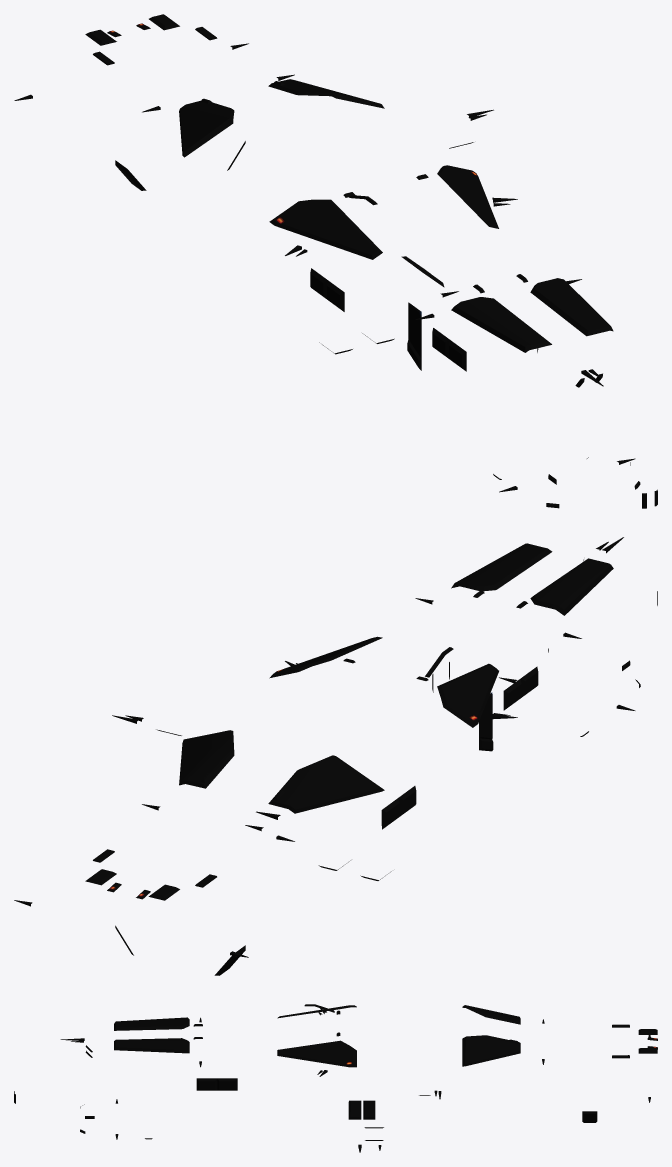
The model's file is hgn_cd_dest_01_t3.glb.
3 renders of one model, top to bottom at view 1: azimuth 30°, elevation 25°; view 2: azimuth 150°, elevation 25°; view 3: azimuth 270°, elevation 25°, orthographic. The views are drawn at different scales.
Visible parts, largest first — view 1: hgn_destroyer_01_t3_LOD0; view 2: hgn_destroyer_01_t3_LOD0; view 3: hgn_destroyer_01_t3_LOD0.
Part boxes in pixels (bbox=[...]): hgn_destroyer_01_t3_LOD0: bbox=[14, 14, 657, 508]; hgn_destroyer_01_t3_LOD0: bbox=[14, 537, 657, 975]; hgn_destroyer_01_t3_LOD0: bbox=[14, 1004, 657, 1152].
Size of what is drawn, in the model's own units: 2.65 by 1.56 by 7.84.
Materials: 1 (1 with a texture image).
